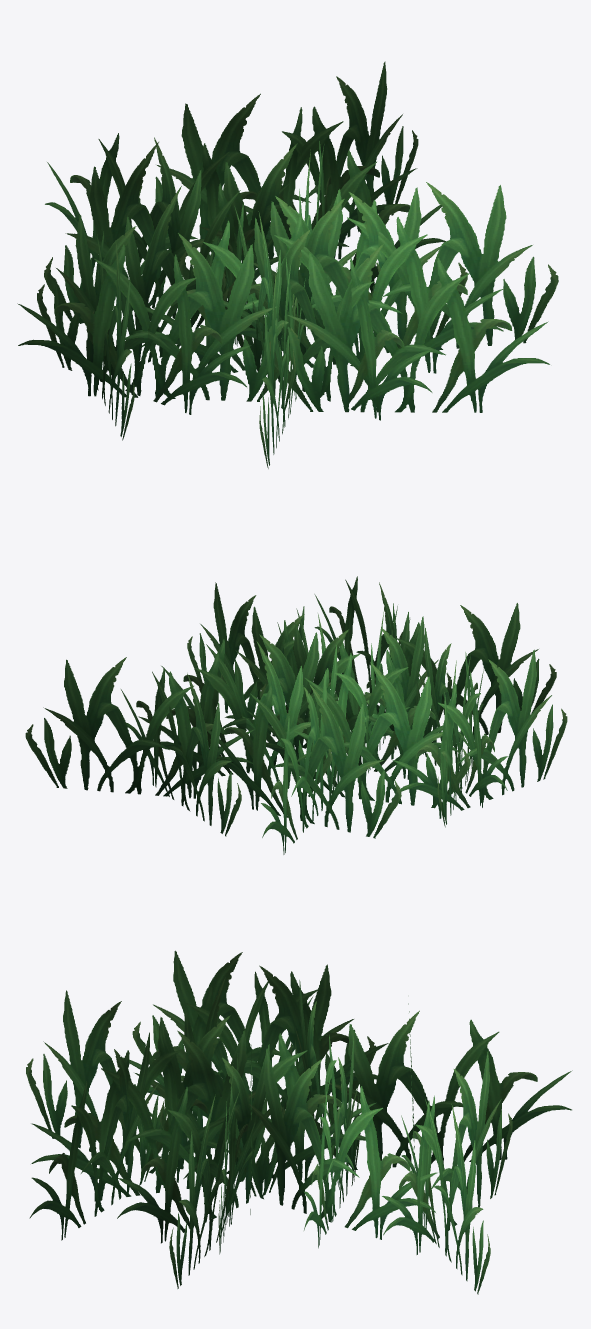
Rendered from 2001_Plant_cao_02.FBX.
3 renders of one model, top to bottom at view 1: azimuth 30°, elevation 25°; view 2: azimuth 150°, elevation 25°; view 3: azimuth 270°, elevation 25°, orthographic. The views are drawn at different scales.
Parts seen in each view (by area): view 1: 2001_Plant_cao_02; view 2: 2001_Plant_cao_02; view 3: 2001_Plant_cao_02.
Boxes of the visible parts, x1=… form: 2001_Plant_cao_02: x1=17, y1=61, x2=558, y2=468; 2001_Plant_cao_02: x1=25, y1=576, x2=567, y2=854; 2001_Plant_cao_02: x1=26, y1=950, x2=572, y2=1294.
Size of the model in its own units: 428 by 154 by 431.
